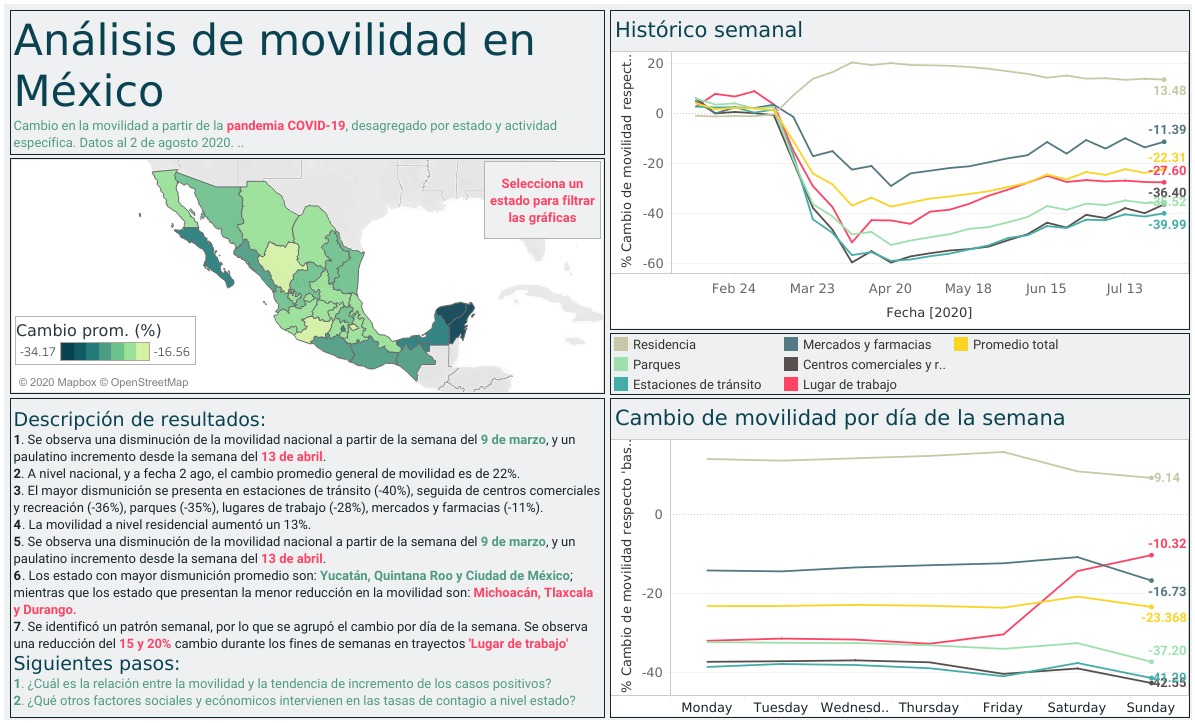

This screenshot's page, from the dashboard's own definition file:
{"tool":"tableau","page":{"name":"Movilidad México","canvas":[1196,724],"ordinal":0},"visuals":[{"type":"worksheet","box":[0,0,1196,724]},{"type":"worksheet","box":[0,0,1196,724]},{"type":"worksheet","box":[10,10,595,145]},{"type":"worksheet","title":"Semanal","mark":"Automatic","cols":["date"],"box":[610,10,580,320]},{"type":"worksheet","title":"Map","mark":"Automatic","box":[10,158,595,236]},{"type":"worksheet","box":[484,161,117,78]},{"type":"worksheet","title":"Map","mark":"Automatic","param":"[federated.1dau1ec0dyooa811ozas90c1wm2k].[sum:Calculation_935904309459136514:qk]","box":[15,316,181,49]},{"type":"worksheet","title":"Semanal","mark":"Automatic","cols":["date"],"param":"[federated.1hxx3og0d3nzlc1f1igmk175x5vu].[:Measure Names]","box":[610,333,580,62]},{"type":"worksheet","box":[10,398,595,320]},{"type":"worksheet","title":"Dia de la semana","mark":"Automatic","cols":["date"],"box":[610,398,580,320]}]}

Visuals, with their boxes in screenshot pixels (x1, y1, x2, y2), scaled from the page's 1196x724 canvas onto the 1195x723 screenshot:
worksheet: bbox(0, 0, 1194, 722)
worksheet: bbox(0, 0, 1194, 722)
worksheet: bbox(10, 10, 604, 155)
"Semanal" worksheet: bbox(609, 10, 1189, 330)
"Map" worksheet: bbox(10, 158, 604, 393)
worksheet: bbox(484, 161, 600, 239)
"Map" worksheet: bbox(15, 316, 196, 364)
"Semanal" worksheet: bbox(609, 333, 1189, 394)
worksheet: bbox(10, 397, 604, 717)
"Dia de la semana" worksheet: bbox(609, 397, 1189, 717)
